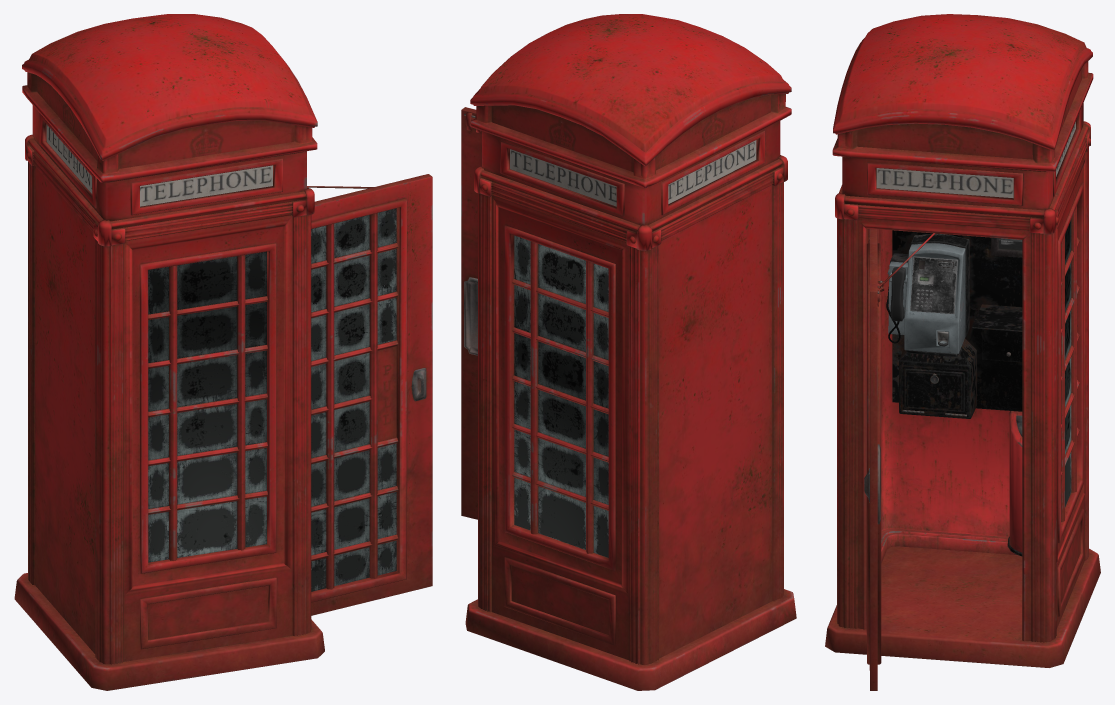
The model's file is telephone.fbx.
3 renders of one model, left to right at view 1: azimuth 30°, elevation 25°; view 2: azimuth 150°, elevation 25°; view 3: azimuth 270°, elevation 25°, orthographic. The views are drawn at different scales.
Visible parts, largest first — view 1: desirefx.me_023; view 2: desirefx.me_023; view 3: desirefx.me_023.
Boxes of the visible parts, x1,y1,x2,y2 form: desirefx.me_023: (14,14,432,690); desirefx.me_023: (461,14,796,690); desirefx.me_023: (825,14,1100,690).
Bounding box in the file's own units: 5.95 × 9.85 × 4.32.
Materials: 4 (4 with a texture image).
